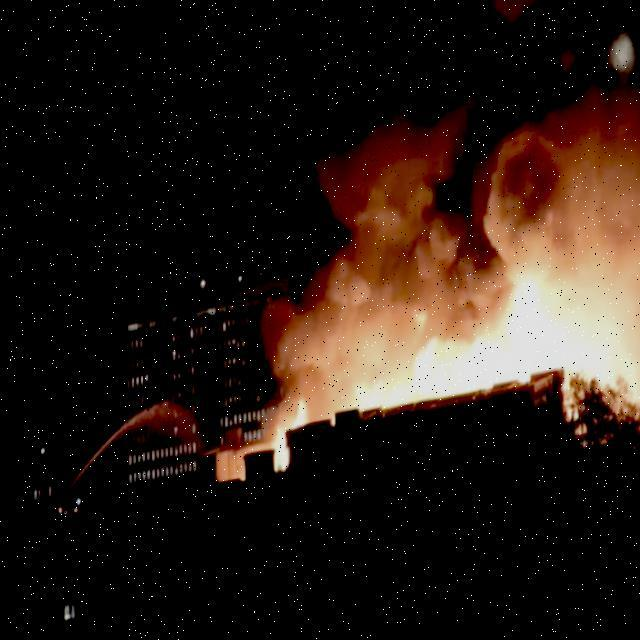Fire: (235, 248, 636, 468)
